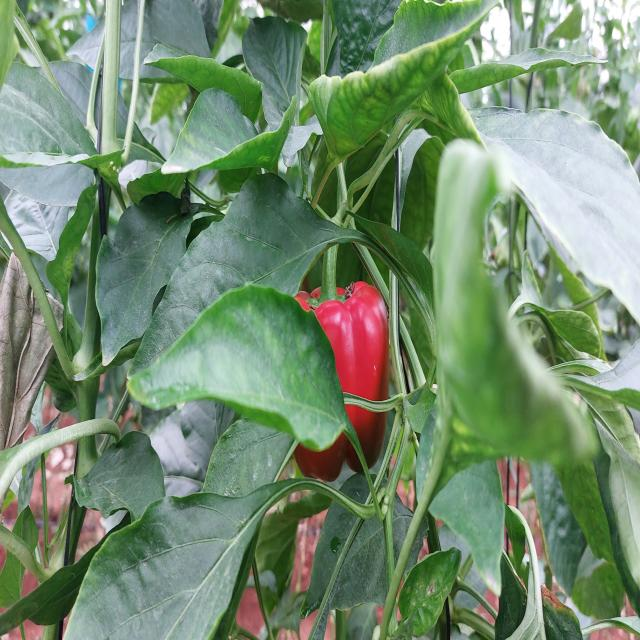Red-Ready-to-Harvest: (272, 275, 412, 487)
